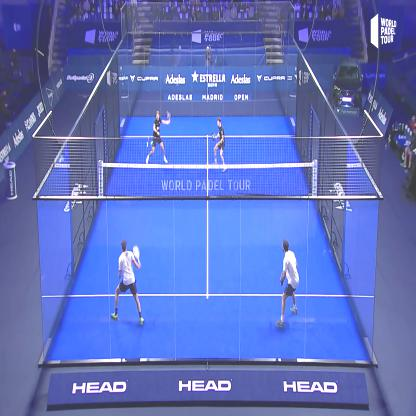ball: (148, 136, 155, 148)
